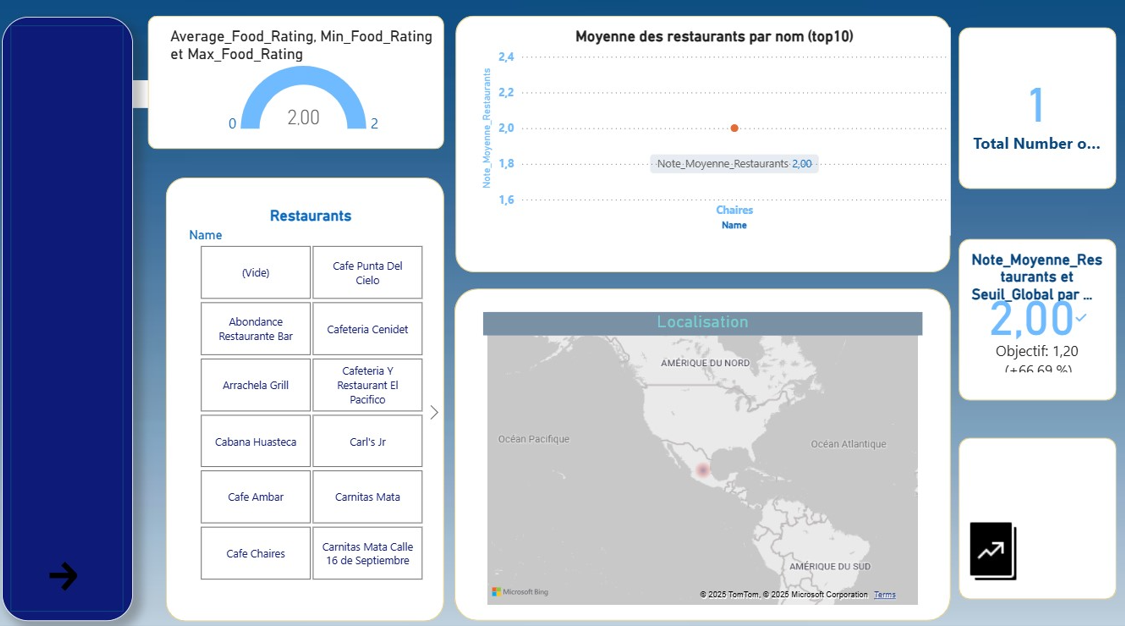

The dashboard page shown, as its layout file describes it:
{"tool":"powerbi","page":{"name":"Customer Manager","canvas":[1280,720],"ordinal":1},"visuals":[{"type":"textbox","box":[123.5,99.7,74.4,31.3],"z":0},{"type":"shape","box":[1088.6,40.3,177.1,181.4],"z":1000},{"type":"shape","box":[1088.6,501.1,177.1,181.4],"z":2000},{"type":"shape","box":[524.2,27.4,555.8,288],"z":3000},{"type":"stackedAreaChart","title":"Moyenne des restaurants par nom (top10)","fields":{"Category":["restaurants.Name"],"Y":["ratings.Note_Moyenne_Restaurants"]},"box":[548.6,40.3,531.4,233.3],"z":4000},{"type":"shape","box":[1088.6,277.9,177.1,181.4],"z":5000},{"type":"shape","box":[522.7,334.1,557.3,373],"z":6000},{"type":"shape","box":[198.7,208.8,312.5,498.2],"z":7000},{"type":"slicer","title":"Restaurants ","fields":{"Values":["restaurants.Name"]},"box":[211.7,240.5,299.5,426.2],"z":8000},{"type":"shape","box":[178.6,27.4,332.6,149.8],"z":9000},{"type":"image","box":[1049.8,591.8,155.5,74.9],"z":10000},{"type":"kpi","title":"Note_Moyenne_Restaurants et Seuil_Global par Nom","fields":{"Indicator":["ratings.Note_Moyenne_Restaurants"],"Goal":["ratings.Seuil_Global"],"TrendLine":["restaurants.Name"]},"box":[1098.7,290.9,157,136.8],"z":11000},{"type":"card","fields":{"Values":["restaurants.Total Number of Restaurants"]},"box":[1098.7,59,157,144],"z":12000},{"type":"map","title":"Localisation","fields":{"Category":["lieux_restau.Country","lieux_restau.City","lieux_restau.State"],"Y":["Min(lieux_restau.Latitude)"],"X":["Min(lieux_restau.Longitude)"]},"box":[554.4,360,493.9,334.1],"z":13000},{"type":"gauge","fields":{"Y":["ratings.Average_Food_Rating"],"MaxValue":["ratings.Max_Food_Rating"],"MinValue":["ratings.Min_Food_Rating"]},"box":[198.7,40.3,309.6,123.8],"z":14000},{"type":"shape","box":[14.4,28.8,146.9,678.2],"z":15000},{"type":"actionButton","box":[25.4,636.7,114.2,40.6],"z":15001}]}

Visuals, with their boxes in screenshot pixels (x1, y1, x2, y2), scaled from the page's 1280x720 canvas onto the 1125x626 screenshot:
textbox: (left=109, top=87, right=174, bottom=114)
shape: (left=957, top=35, right=1112, bottom=193)
shape: (left=957, top=436, right=1112, bottom=593)
shape: (left=461, top=24, right=949, bottom=274)
"Moyenne des restaurants par nom (top10)" stackedAreaChart: (left=482, top=35, right=949, bottom=238)
shape: (left=957, top=242, right=1112, bottom=399)
shape: (left=459, top=290, right=949, bottom=615)
shape: (left=175, top=182, right=449, bottom=615)
"Restaurants " slicer: (left=186, top=209, right=449, bottom=580)
shape: (left=157, top=24, right=449, bottom=154)
image: (left=923, top=515, right=1059, bottom=580)
"Note_Moyenne_Restaurants et Seuil_Global par Nom" kpi: (left=966, top=253, right=1104, bottom=372)
card - restaurants.Total Number of Restaurants: (left=966, top=51, right=1104, bottom=176)
"Localisation" map: (left=487, top=313, right=921, bottom=603)
gauge - ratings.Average_Food_Rating x ratings.Max_Food_Rating: (left=175, top=35, right=447, bottom=143)
shape: (left=13, top=25, right=142, bottom=615)
actionButton: (left=22, top=554, right=123, bottom=589)
